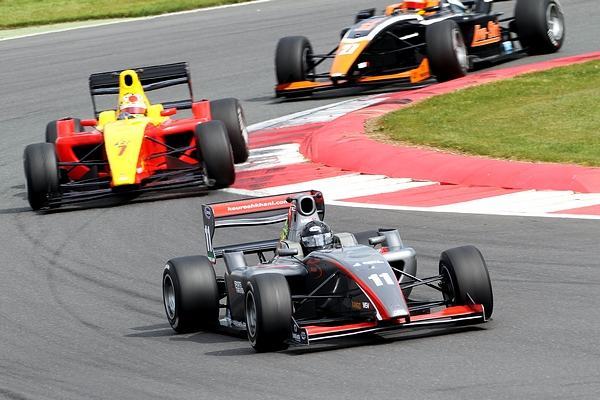race car: (159, 188, 497, 358), (20, 59, 249, 210), (272, 1, 567, 102)
